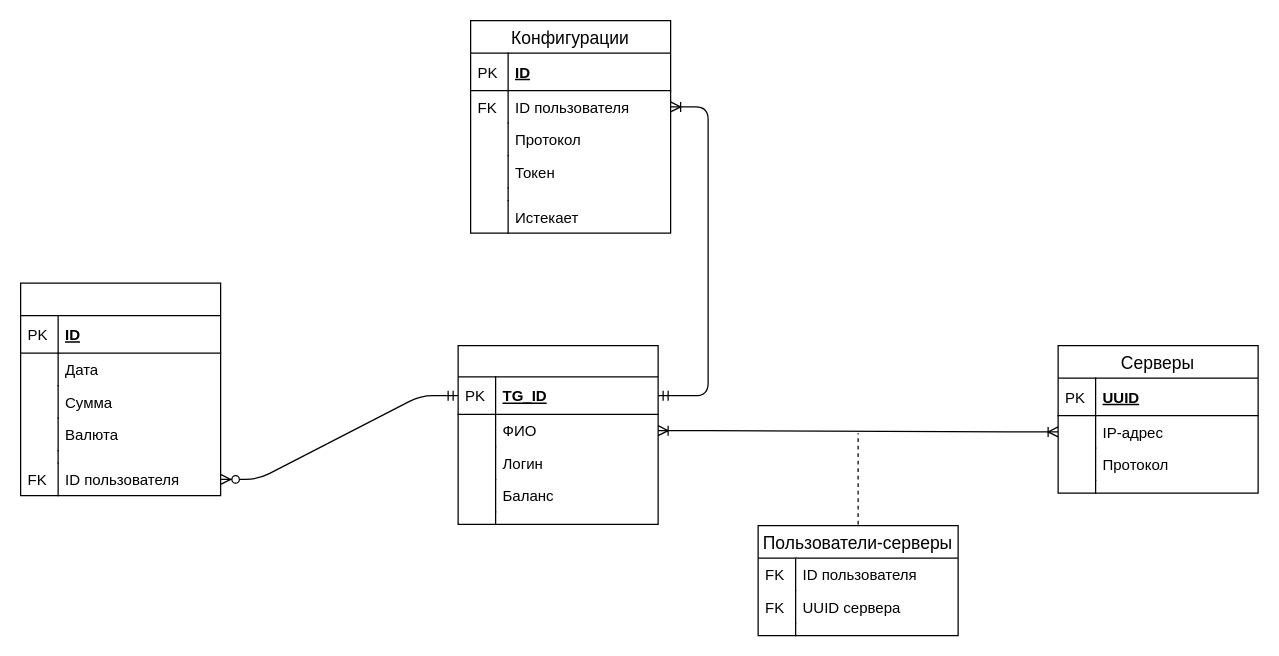
This 1279x656 diagram has some shape labels left out. Each missing label, with the box of its shape:
Платежи: (19, 282, 221, 496)
Пользователи: (457, 344, 658, 524)
